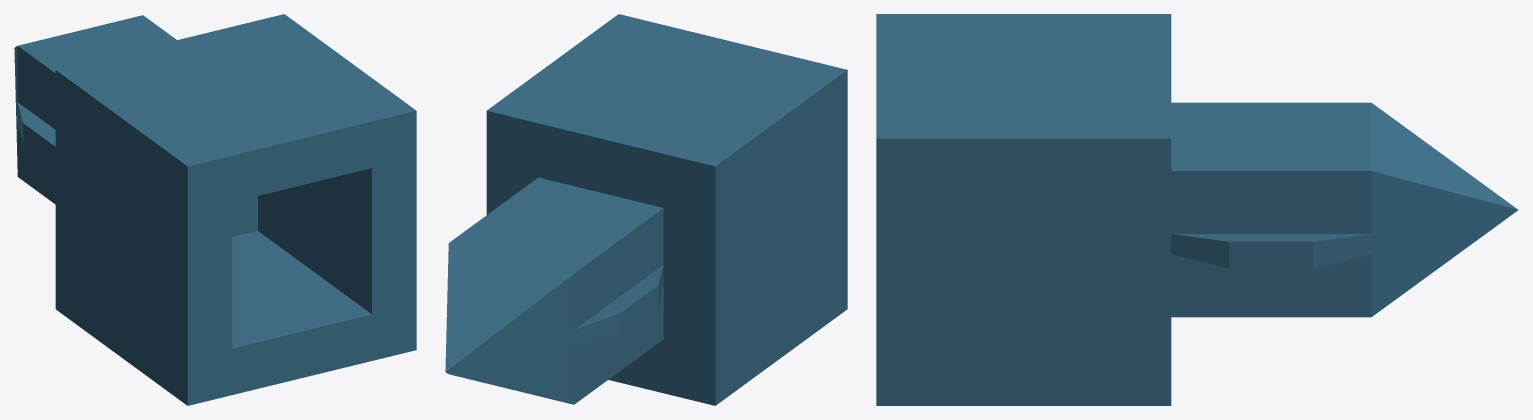
File: modeling.glb
The picture shows the model from 3 angles, left to right: view 1: azimuth 30°, elevation 25°; view 2: azimuth 150°, elevation 25°; view 3: azimuth 270°, elevation 25°; orthographic projection. The views are drawn at different scales.
Visible parts, largest first — view 1: Cube; view 2: Cube; view 3: Cube.
Part boxes in pixels (x1,y1,x2,y2): Cube: [14, 14, 416, 405]; Cube: [445, 14, 847, 405]; Cube: [876, 14, 1517, 405].
Size of the model in its own units: 2 by 2 by 4.36.
1 material, 1 textured.
